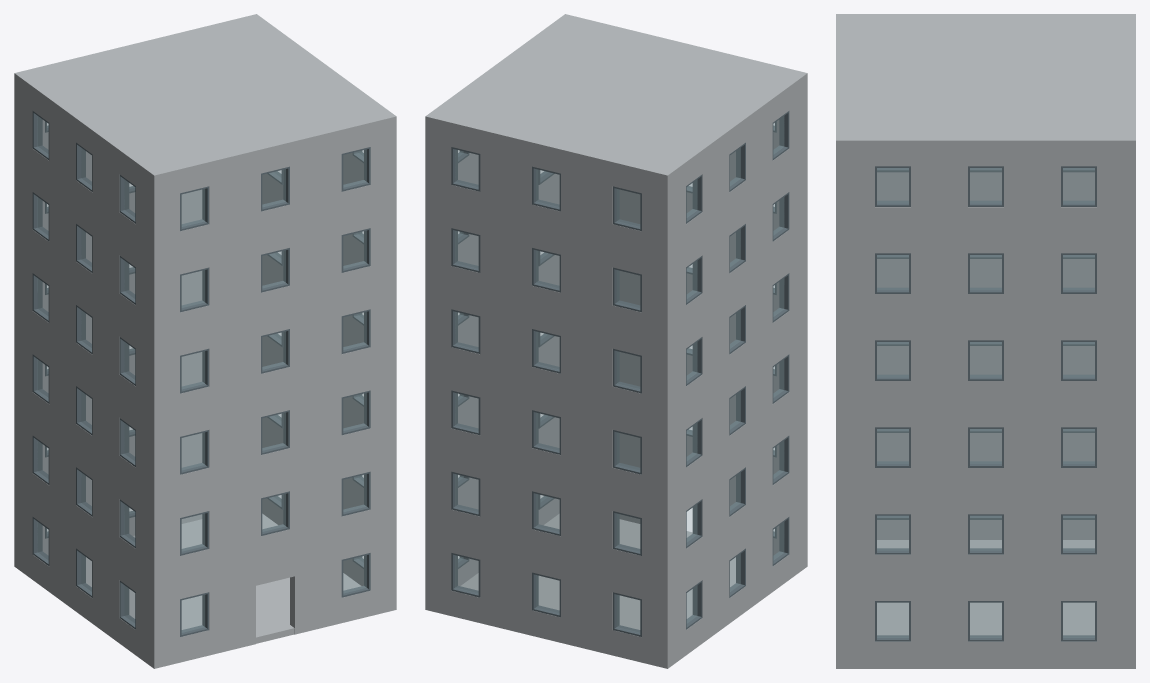
Rendered from block_6_lod1.glb.
The picture shows the model from 3 angles, left to right: view 1: azimuth 30°, elevation 25°; view 2: azimuth 150°, elevation 25°; view 3: azimuth 270°, elevation 25°; orthographic projection. The views are drawn at different scales.
Parts seen in each view (by area): view 1: Wall_0 baked, Wall_3 baked, Ceiling baked, Wall_1 baked, Wall_2 baked, Floor baked, Glazing.010 baked, Glazing.009 baked, Glazing.001 baked, Glazing.015 baked, Glazing.003 baked, Glazing.004 baked (+11 smaller); view 2: Wall_1 baked, Wall_3 baked, Ceiling baked, Wall_0 baked, Wall_2 baked, Floor baked, Glazing.026 baked, Glazing.027 baked, Glazing.017 baked, Glazing.018 baked, Glazing.033 baked, Glazing.020 baked (+12 smaller); view 3: Wall_2 baked, Ceiling baked, Wall_3 baked, Wall_0 baked, Wall_1 baked, Floor baked, Glazing.035 baked, Glazing.036 baked, Glazing.037 baked, Glazing.038 baked, Glazing.039 baked, Glazing.040 baked (+12 smaller).
Boxes of the visible parts, x1,y1,x2,y2 form: Wall_0 baked: (149, 123, 396, 668); Wall_3 baked: (19, 83, 149, 664); Ceiling baked: (14, 14, 396, 181); Wall_1 baked: (14, 80, 202, 569); Wall_2 baked: (262, 153, 363, 585); Floor baked: (86, 514, 360, 643); Glazing.010 baked: (343, 312, 366, 349); Glazing.009 baked: (262, 332, 285, 369); Glazing.001 baked: (343, 555, 366, 592); Glazing.015 baked: (262, 169, 285, 206); Glazing.003 baked: (262, 494, 285, 531); Glazing.004 baked: (343, 474, 366, 511); Wall_1 baked: (425, 123, 672, 668); Wall_3 baked: (672, 83, 802, 664); Ceiling baked: (425, 14, 807, 181); Wall_0 baked: (619, 80, 807, 569); Wall_2 baked: (458, 153, 559, 585); Floor baked: (461, 514, 735, 629); Glazing.026 baked: (455, 312, 478, 349); Glazing.027 baked: (536, 332, 559, 369); Glazing.017 baked: (455, 555, 478, 592); Glazing.018 baked: (536, 575, 559, 612); Glazing.033 baked: (536, 169, 559, 206); Glazing.020 baked: (455, 474, 478, 511); Wall_2 baked: (846, 147, 1125, 668); Ceiling baked: (836, 14, 1135, 147); Wall_3 baked: (877, 172, 1094, 539); Wall_0 baked: (836, 147, 846, 668); Wall_1 baked: (1125, 147, 1135, 668); Floor baked: (877, 540, 1094, 635); Glazing.035 baked: (877, 603, 908, 637); Glazing.036 baked: (970, 603, 1001, 637); Glazing.037 baked: (1063, 603, 1094, 637); Glazing.038 baked: (877, 516, 908, 550); Glazing.039 baked: (970, 516, 1001, 550); Glazing.040 baked: (1063, 516, 1094, 550).
Size of the model in its own units: 10 by 19.45 by 10.
